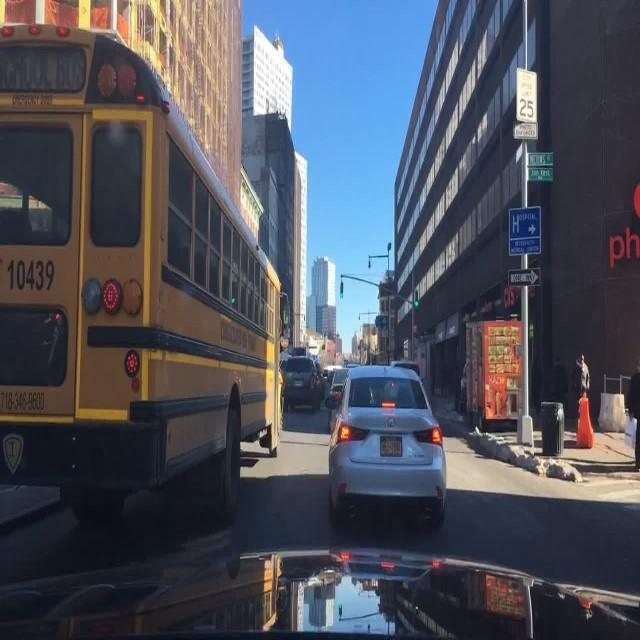normal: (6, 14, 287, 576), (327, 364, 451, 530), (279, 349, 323, 410)
